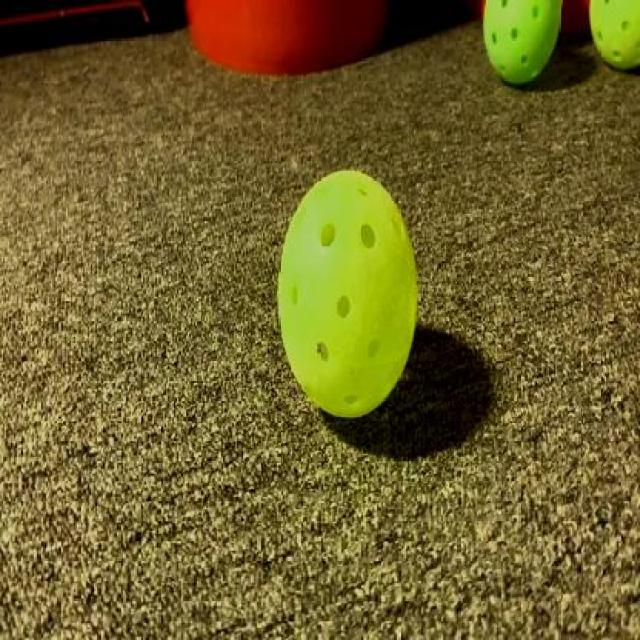ball: (271, 164, 435, 419)
